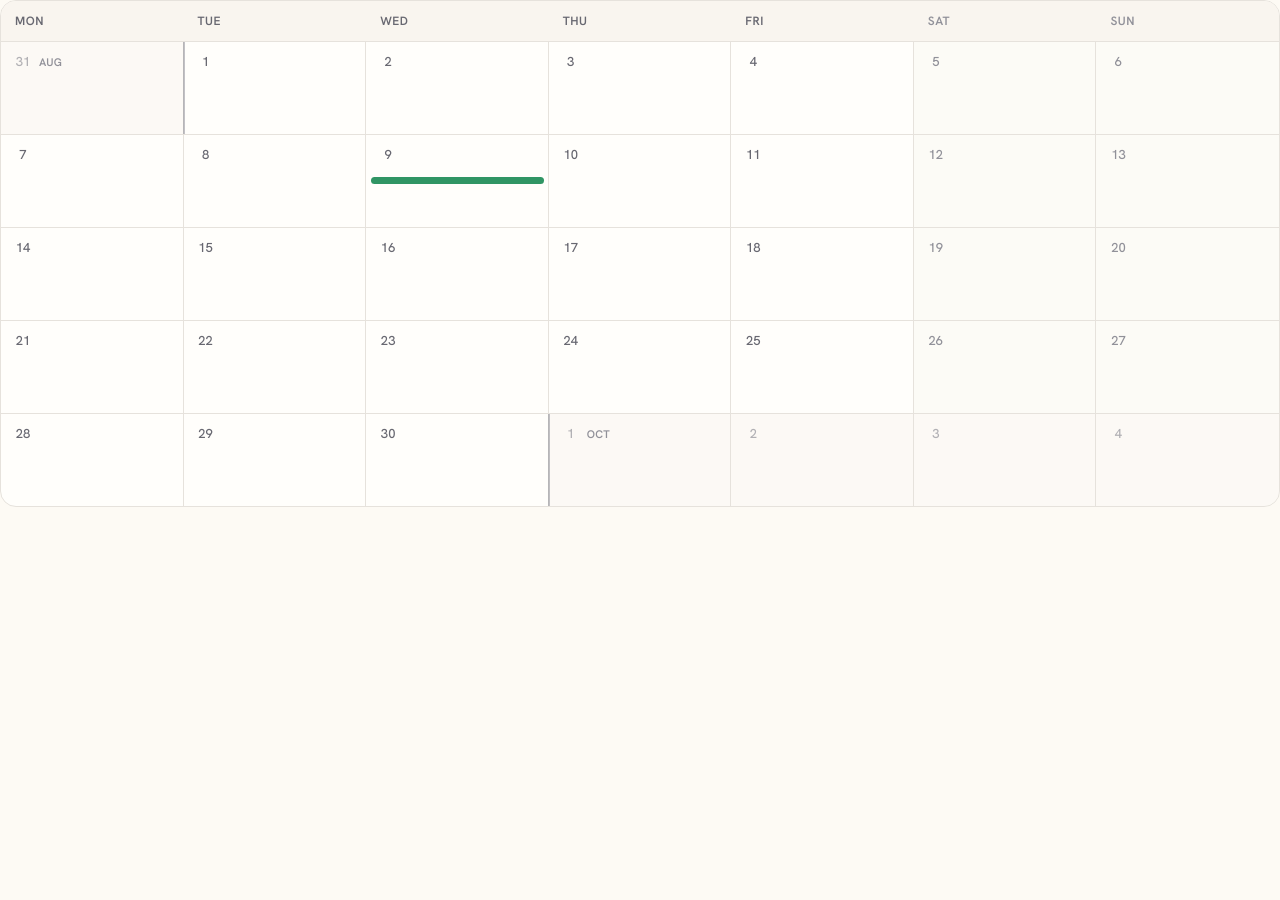
Test case: StripeCalendar › applies the leave-type filter to the stripes and the day list
Check: the number of elements with test id "stripe" is 1, box [371,177,544,184]
Click the button "9". click: (457, 181)
box: [366,135,549,227]
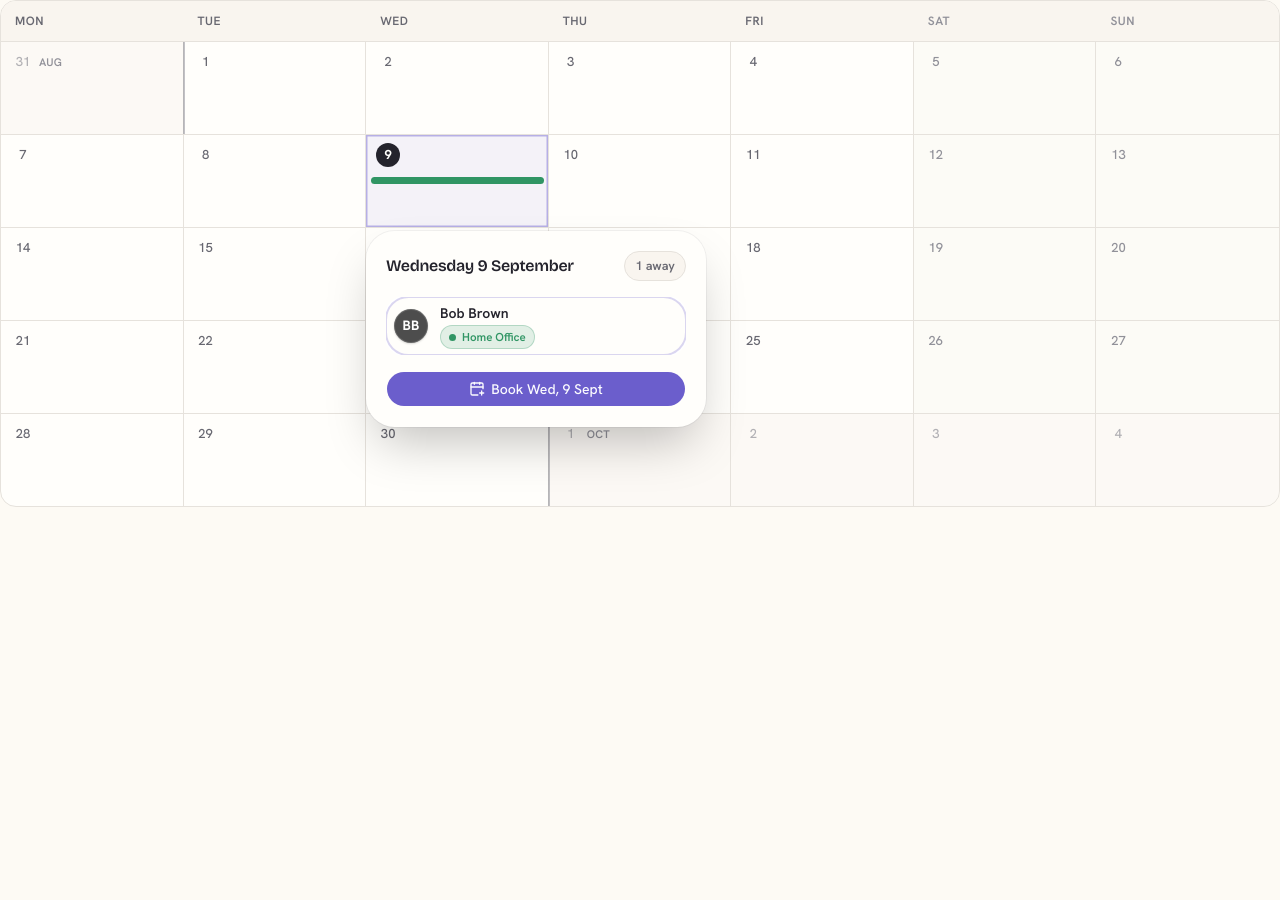
Check: the text "Bob Brown" is shown, box [440,304,509,322]
